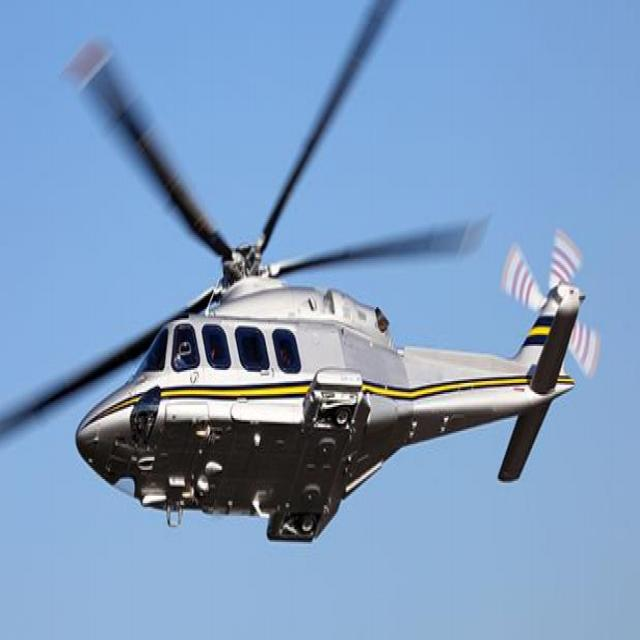helicopter: (1, 1, 604, 543)
